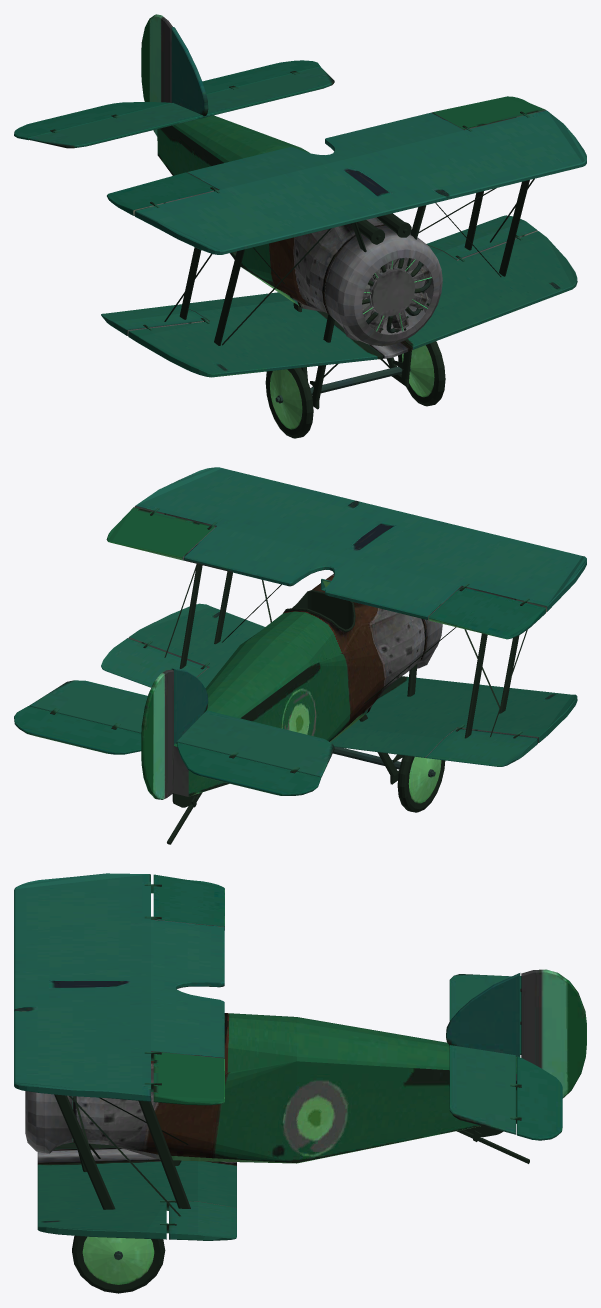
File: Avioneta_pivot.obj
The picture shows the model from 3 angles, top to bottom: view 1: azimuth 30°, elevation 25°; view 2: azimuth 150°, elevation 25°; view 3: azimuth 270°, elevation 25°; orthographic projection. The views are drawn at different scales.
Parts seen in each view (by area): view 1: Avioneta_pivot:Spowith_f1_camel Avioneta_pivot:polySurface40 Avi, Avioneta_pivot:Spowith_f1_camel Avioneta_pivot:cauda Avioneta_pi, Avioneta_pivot:Roda Avioneta_pivot:Spowith_f1_camel Avioneta_piv, Avioneta_pivot:Spowith_f1_camel Avioneta_pivot:leme Avioneta_piv, Avioneta_pivot:D1 Avioneta_pivot:Spowith_f1_camel Avioneta_pivot, Avioneta_pivot:E1 Avioneta_pivot:Spowith_f1_camel Avioneta_pivot, Avioneta_pivot:Roda_ Avioneta_pivot:Spowith_f1_camel Avioneta_pi, Avioneta_pivot:E2 Avioneta_pivot:Spowith_f1_camel Avioneta_pivot, Avioneta_pivot:D2 Avioneta_pivot:Spowith_f1_camel Avioneta_pivot; view 2: Avioneta_pivot:Spowith_f1_camel Avioneta_pivot:polySurface40 Avi, Avioneta_pivot:Spowith_f1_camel Avioneta_pivot:cauda Avioneta_pi, Avioneta_pivot:D1 Avioneta_pivot:Spowith_f1_camel Avioneta_pivot, Avioneta_pivot:Spowith_f1_camel Avioneta_pivot:leme Avioneta_piv, Avioneta_pivot:E1 Avioneta_pivot:Spowith_f1_camel Avioneta_pivot, Avioneta_pivot:D2 Avioneta_pivot:Spowith_f1_camel Avioneta_pivot, Avioneta_pivot:E2 Avioneta_pivot:Spowith_f1_camel Avioneta_pivot, Avioneta_pivot:Roda Avioneta_pivot:Spowith_f1_camel Avioneta_piv; view 3: Avioneta_pivot:Spowith_f1_camel Avioneta_pivot:polySurface40 Avi, Avioneta_pivot:Spowith_f1_camel Avioneta_pivot:leme Avioneta_piv, Avioneta_pivot:Roda_ Avioneta_pivot:Spowith_f1_camel Avioneta_pi, Avioneta_pivot:E1 Avioneta_pivot:Spowith_f1_camel Avioneta_pivot, Avioneta_pivot:Spowith_f1_camel Avioneta_pivot:cauda Avioneta_pi, Avioneta_pivot:D1 Avioneta_pivot:Spowith_f1_camel Avioneta_pivot, Avioneta_pivot:E2 Avioneta_pivot:Spowith_f1_camel Avioneta_pivot.
Boxes of the visible parts, x1=… form: Avioneta_pivot:Spowith_f1_camel Avioneta_pivot:polySurface40 Avi: x1=28, y1=27, x2=586, y2=409; Avioneta_pivot:Spowith_f1_camel Avioneta_pivot:cauda Avioneta_pi: x1=14, y1=60, x2=320, y2=140; Avioneta_pivot:Roda Avioneta_pivot:Spowith_f1_camel Avioneta_piv: x1=265, y1=367, x2=313, y2=438; Avioneta_pivot:Spowith_f1_camel Avioneta_pivot:leme Avioneta_piv: x1=141, y1=14, x2=172, y2=136; Avioneta_pivot:D1 Avioneta_pivot:Spowith_f1_camel Avioneta_pivot: x1=107, y1=172, x2=218, y2=215; Avioneta_pivot:E1 Avioneta_pivot:Spowith_f1_camel Avioneta_pivot: x1=432, y1=96, x2=545, y2=130; Avioneta_pivot:Roda_ Avioneta_pivot:Spowith_f1_camel Avioneta_pi: x1=398, y1=341, x2=445, y2=406; Avioneta_pivot:E2 Avioneta_pivot:Spowith_f1_camel Avioneta_pivot: x1=426, y1=215, x2=537, y2=260; Avioneta_pivot:D2 Avioneta_pivot:Spowith_f1_camel Avioneta_pivot: x1=101, y1=305, x2=208, y2=335; Avioneta_pivot:Spowith_f1_camel Avioneta_pivot:polySurface40 Avi: x1=29, y1=467, x2=586, y2=844; Avioneta_pivot:Spowith_f1_camel Avioneta_pivot:cauda Avioneta_pi: x1=14, y1=706, x2=320, y2=795; Avioneta_pivot:D1 Avioneta_pivot:Spowith_f1_camel Avioneta_pivot: x1=428, y1=587, x2=545, y2=639; Avioneta_pivot:Spowith_f1_camel Avioneta_pivot:leme Avioneta_piv: x1=141, y1=669, x2=173, y2=799; Avioneta_pivot:E1 Avioneta_pivot:Spowith_f1_camel Avioneta_pivot: x1=106, y1=507, x2=215, y2=560; Avioneta_pivot:D2 Avioneta_pivot:Spowith_f1_camel Avioneta_pivot: x1=426, y1=728, x2=537, y2=766; Avioneta_pivot:E2 Avioneta_pivot:Spowith_f1_camel Avioneta_pivot: x1=101, y1=638, x2=208, y2=687; Avioneta_pivot:Roda Avioneta_pivot:Spowith_f1_camel Avioneta_piv: x1=397, y1=755, x2=445, y2=812; Avioneta_pivot:Spowith_f1_camel Avioneta_pivot:polySurface40 Avi: x1=14, y1=873, x2=529, y2=1259; Avioneta_pivot:Spowith_f1_camel Avioneta_pivot:leme Avioneta_piv: x1=521, y1=969, x2=586, y2=1098; Avioneta_pivot:Roda_ Avioneta_pivot:Spowith_f1_camel Avioneta_pi: x1=72, y1=1235, x2=165, y2=1293; Avioneta_pivot:E1 Avioneta_pivot:Spowith_f1_camel Avioneta_pivot: x1=153, y1=1051, x2=224, y2=1105; Avioneta_pivot:Spowith_f1_camel Avioneta_pivot:cauda Avioneta_pi: x1=516, y1=976, x2=562, y2=1140; Avioneta_pivot:D1 Avioneta_pivot:Spowith_f1_camel Avioneta_pivot: x1=153, y1=874, x2=224, y2=930; Avioneta_pivot:E2 Avioneta_pivot:Spowith_f1_camel Avioneta_pivot: x1=169, y1=1200, x2=236, y2=1240.
Size of the model in its own units: 326 by 197 by 356.
Materials: 1 (1 with a texture image).
